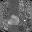people: (7, 15, 19, 25)
